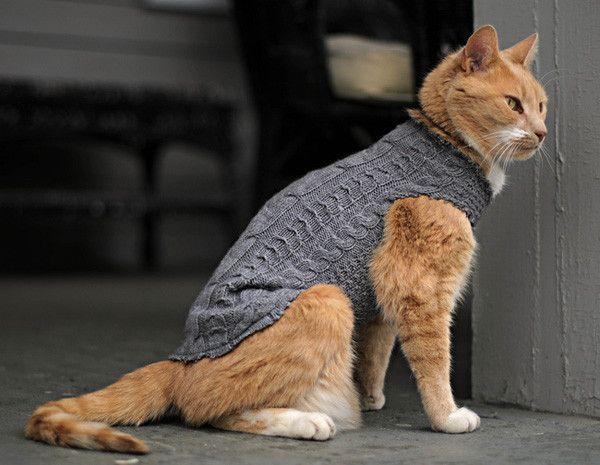kedo: (27, 22, 541, 436)
